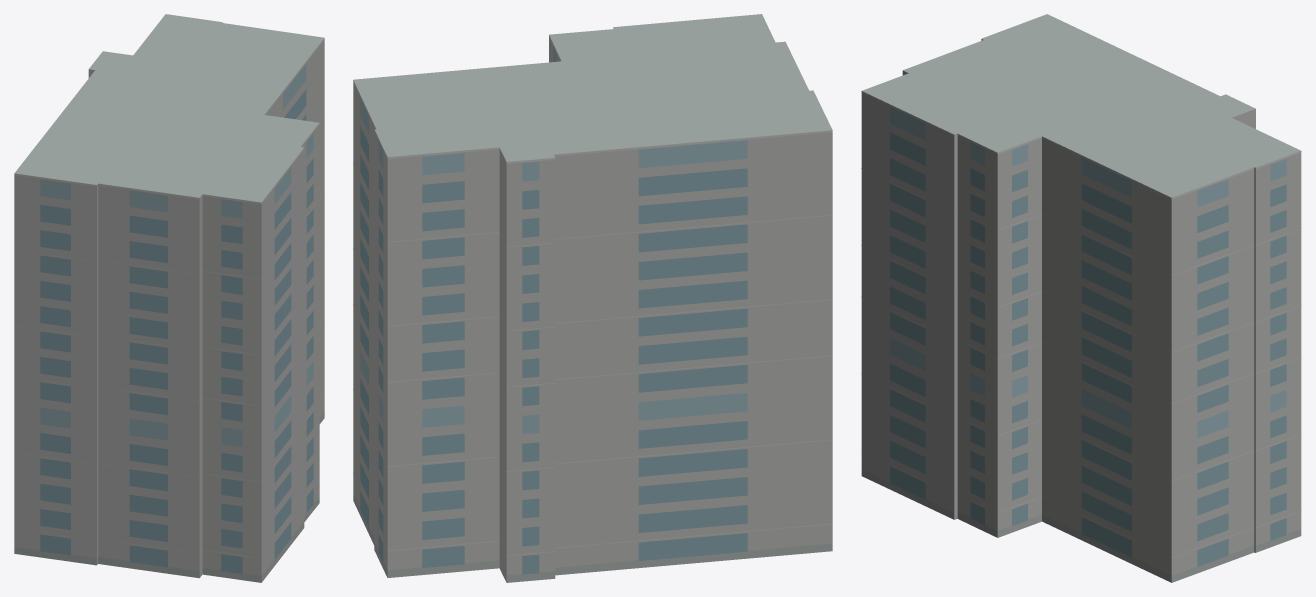
File: survey-upis-33038295.glb
The picture shows the model from 3 angles, left to right: view 1: azimuth 30°, elevation 25°; view 2: azimuth 150°, elevation 25°; view 3: azimuth 270°, elevation 25°; orthographic projection. The views are drawn at different scales.
Parts seen in each view (by area): view 1: survey-upis-33038295.tmp; view 2: survey-upis-33038295.tmp; view 3: survey-upis-33038295.tmp.
Boxes of the visible parts, x1,y1,x2,y2 form: survey-upis-33038295.tmp: [14, 14, 324, 582]; survey-upis-33038295.tmp: [353, 14, 832, 582]; survey-upis-33038295.tmp: [861, 14, 1301, 582].
Size of the model in its own units: 51.07 by 49.9 by 51.66.
